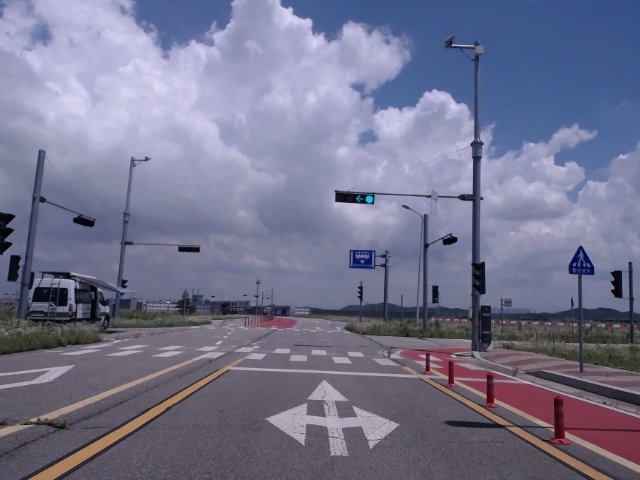all_green_4: (335, 189, 375, 204)
